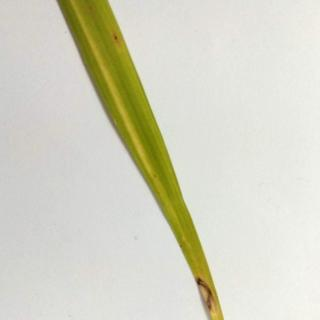Blast: (184, 251, 242, 319)
